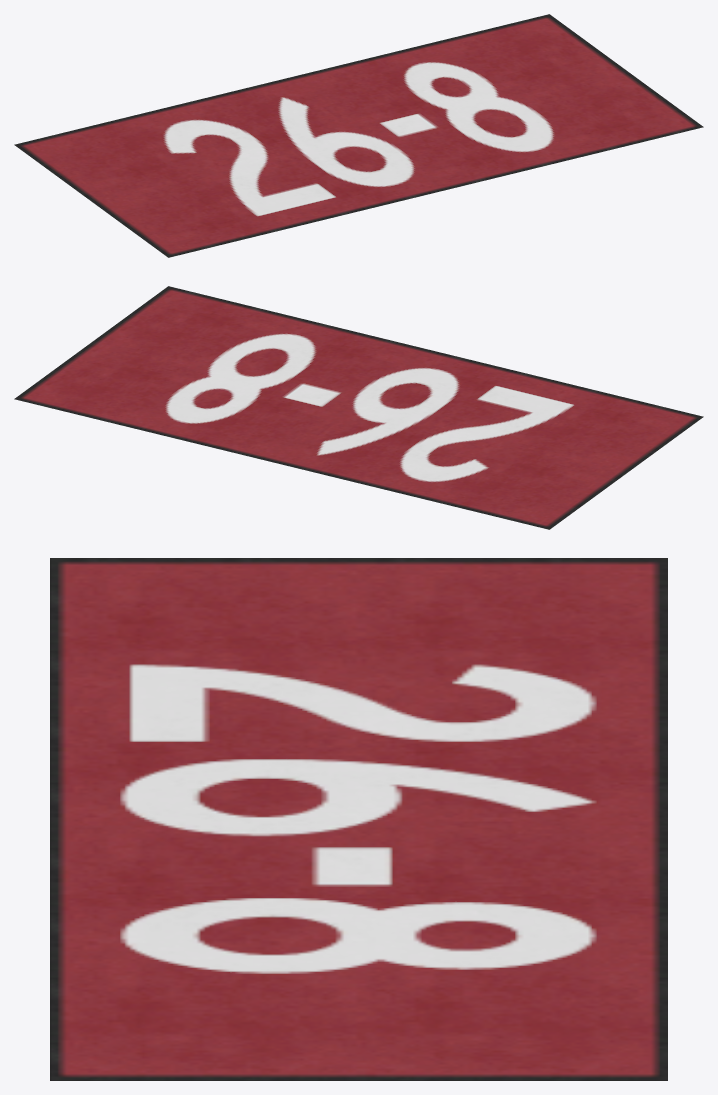
The picture shows the model from 3 angles, top to bottom: view 1: azimuth 30°, elevation 25°; view 2: azimuth 150°, elevation 25°; view 3: azimuth 270°, elevation 25°; orthographic projection. The views are drawn at different scales.
Visible parts, largest first — view 1: 26_8; view 2: 26_8; view 3: 26_8.
Boxes of the visible parts, <box> form: 26_8: <box>14,14,703,257</box>; 26_8: <box>14,286,703,529</box>; 26_8: <box>50,558,667,1080</box>.
Bounding box in the file's own units: 7.74 × 1.6e-07 × 3.87.
1 material, 1 textured.
